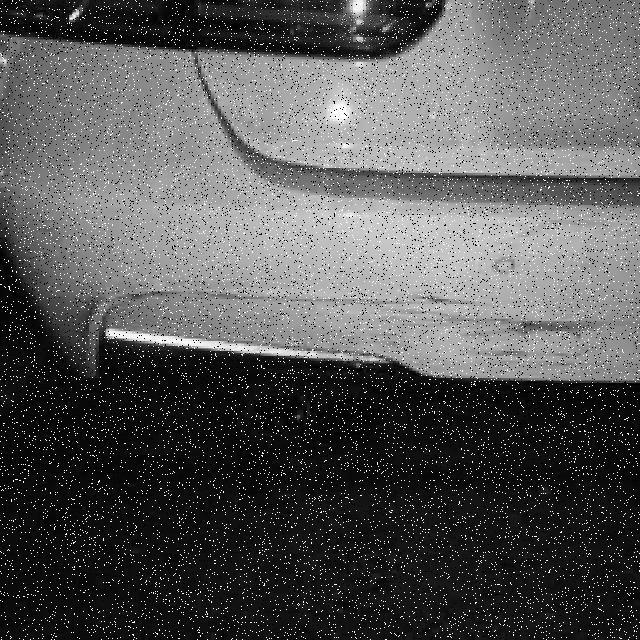rear-bumper-dent: (7, 37, 637, 459)
